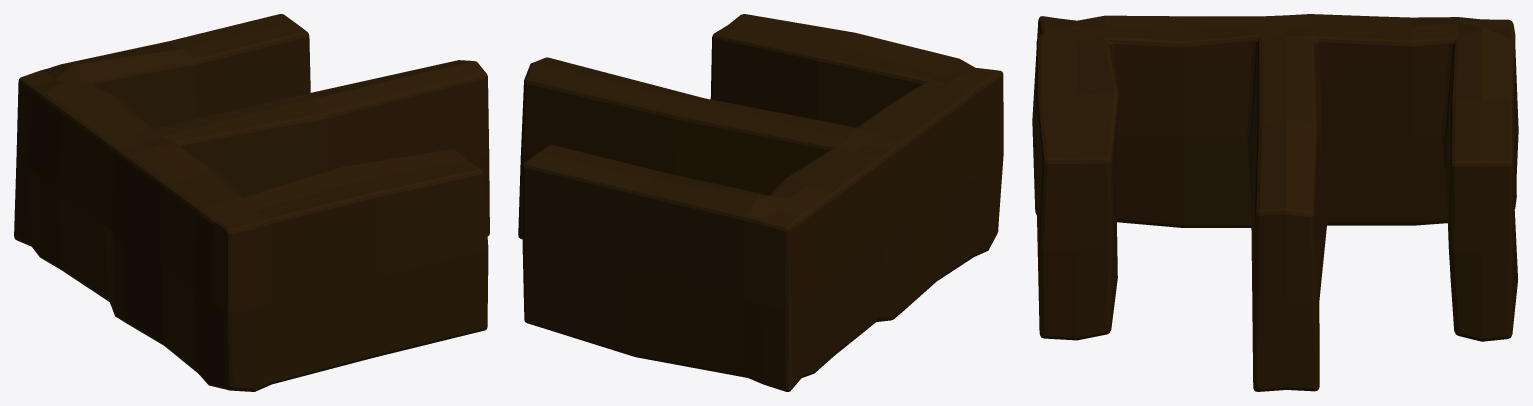
File: Wall piece 10.fbx
3 renders of one model, left to right at view 1: azimuth 30°, elevation 25°; view 2: azimuth 150°, elevation 25°; view 3: azimuth 270°, elevation 25°, orthographic. The views are drawn at different scales.
Visible parts, largest first — view 1: wall piece 10O; view 2: wall piece 10O; view 3: wall piece 10O.
Boxes of the visible parts, x1,y1,x2,y2 form: wall piece 10O: (14,14,489,391); wall piece 10O: (518,14,1003,391); wall piece 10O: (1032,14,1518,391).
Size of the model in its own units: 1008 by 1043 by 481.
